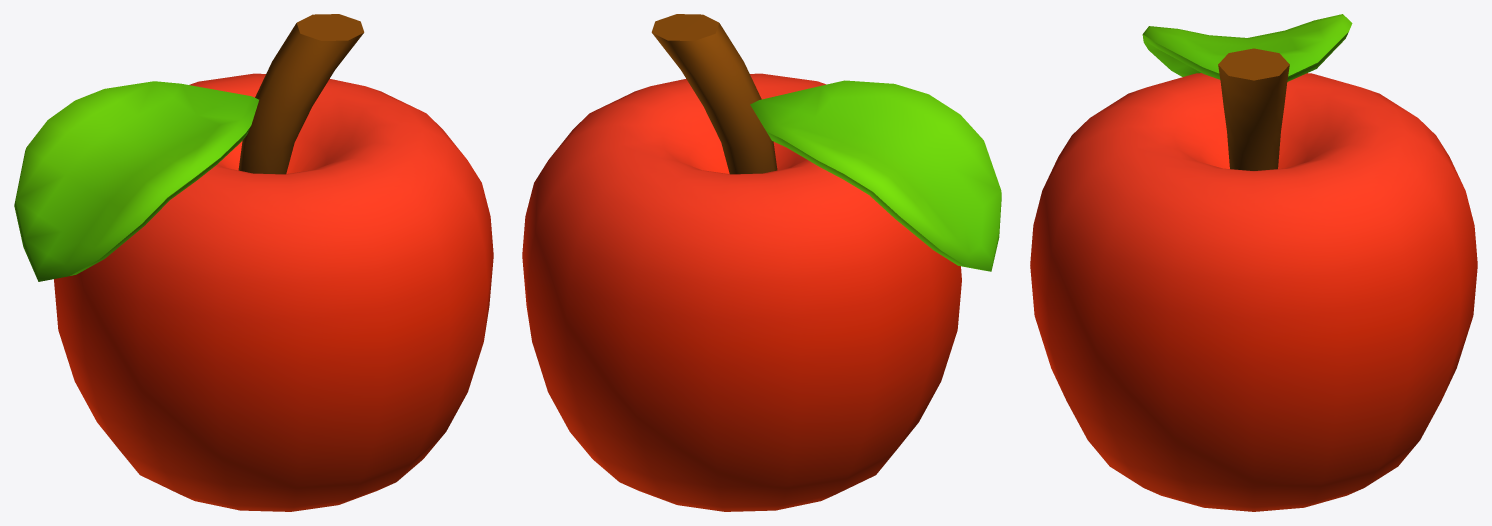
Rendered from Farm_Tree_Product_Apple_01.fbx.
3 renders of one model, left to right at view 1: azimuth 30°, elevation 25°; view 2: azimuth 150°, elevation 25°; view 3: azimuth 270°, elevation 25°, orthographic.
Visible parts, largest first — view 1: Farm_Tree_Product_Apple_01; view 2: Farm_Tree_Product_Apple_01; view 3: Farm_Tree_Product_Apple_01.
Boxes of the visible parts, x1=… form: Farm_Tree_Product_Apple_01: x1=14, y1=14, x2=493, y2=511; Farm_Tree_Product_Apple_01: x1=522, y1=14, x2=1001, y2=511; Farm_Tree_Product_Apple_01: x1=1030, y1=14, x2=1477, y2=511.
Size of the model in its own units: 32.47 by 30.25 by 28.66.
